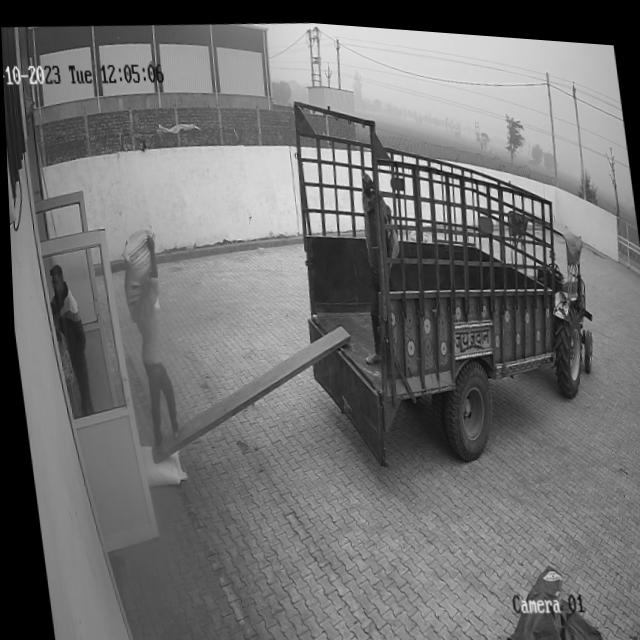sack: (114, 226, 159, 321), (136, 440, 183, 487)
